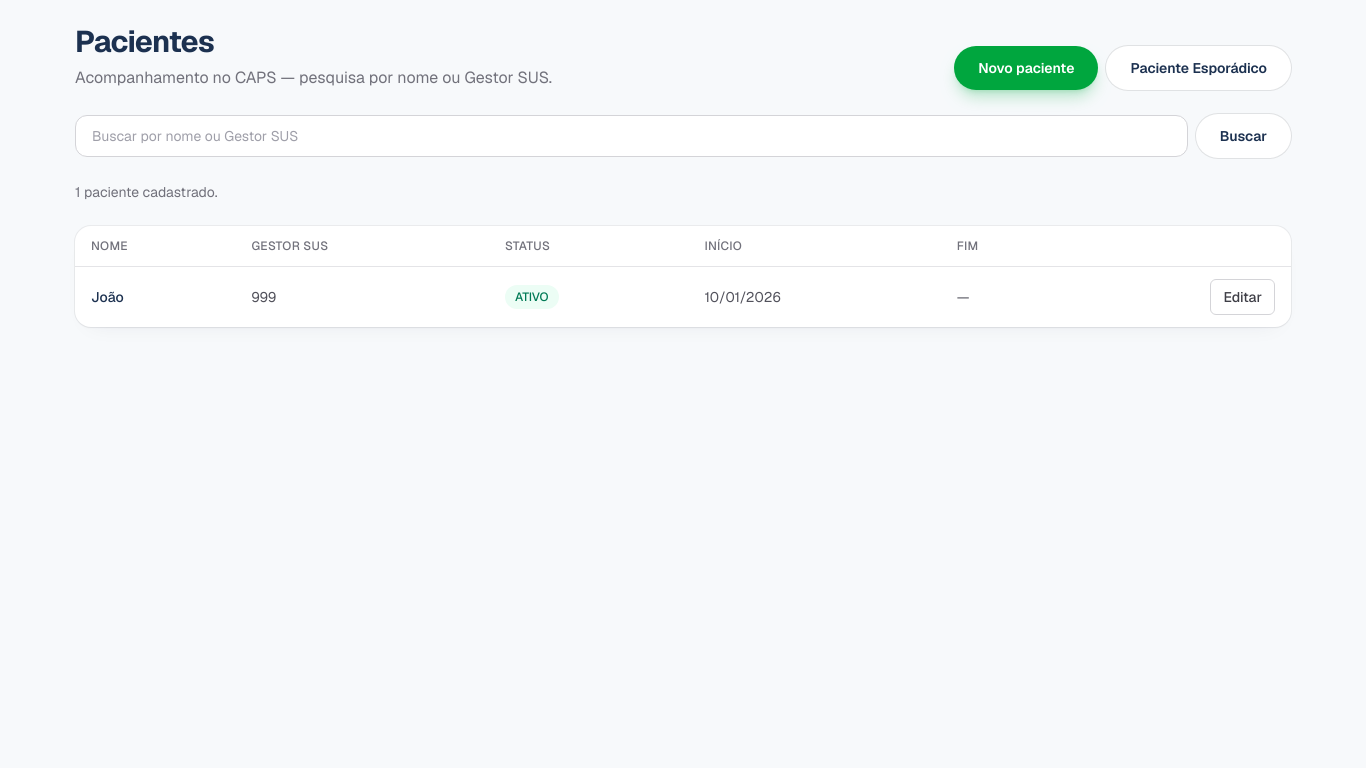
Scenario: PacientesView — interações › autorizador abre o formulário de edição preenchido
Click the button "Editar".
click(1243, 297)  # box x1=1210 y1=279 x2=1275 y2=315
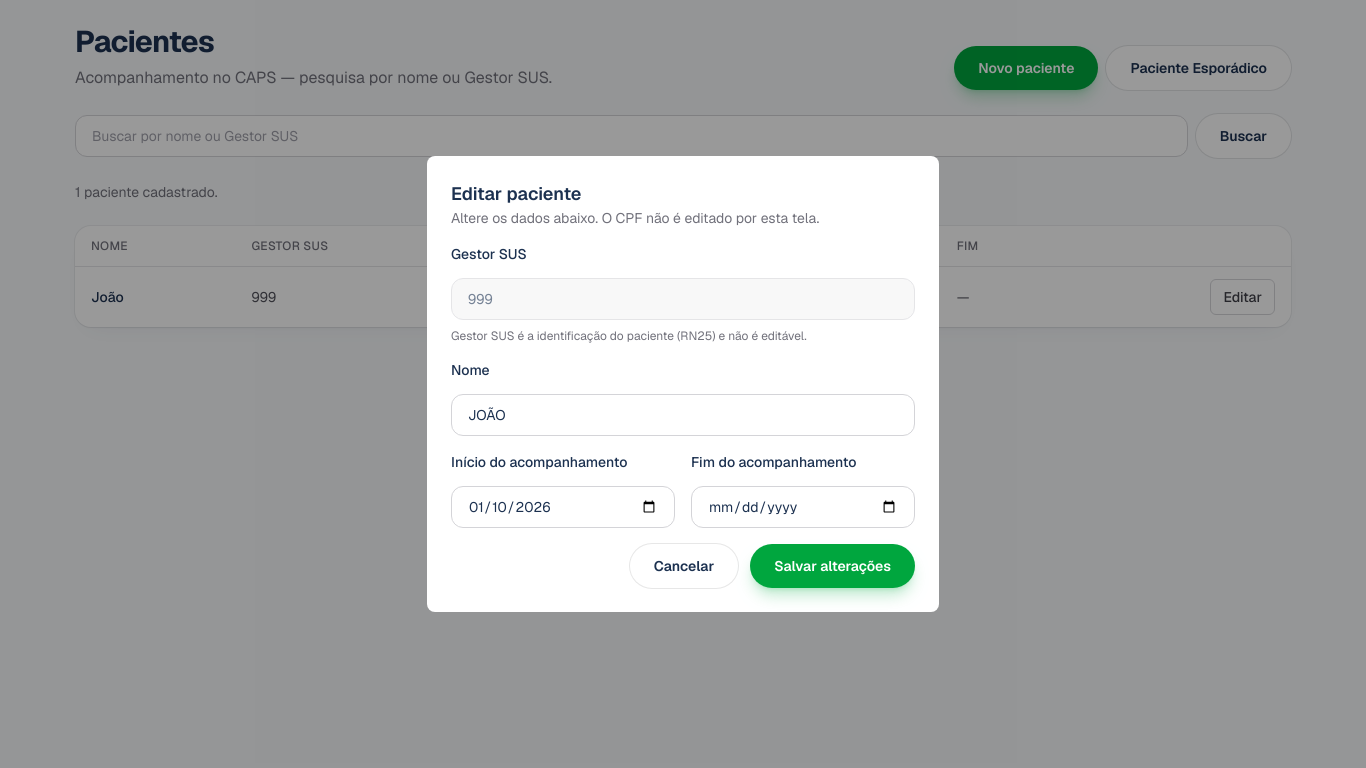
Result: the dialog "Editar paciente" is shown
Result: the field labelled "Nome" holds "João" at x1=451 y1=394 x2=915 y2=436
Result: the field labelled "Gestor SUS" holds "999" at x1=451 y1=278 x2=915 y2=320
